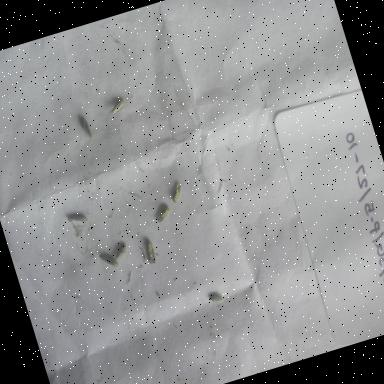pbw: (140, 235, 160, 267), (204, 285, 228, 310), (75, 114, 95, 142), (98, 248, 119, 272), (152, 203, 174, 225), (66, 208, 89, 229), (167, 180, 187, 204), (106, 95, 128, 116), (110, 242, 130, 262)
